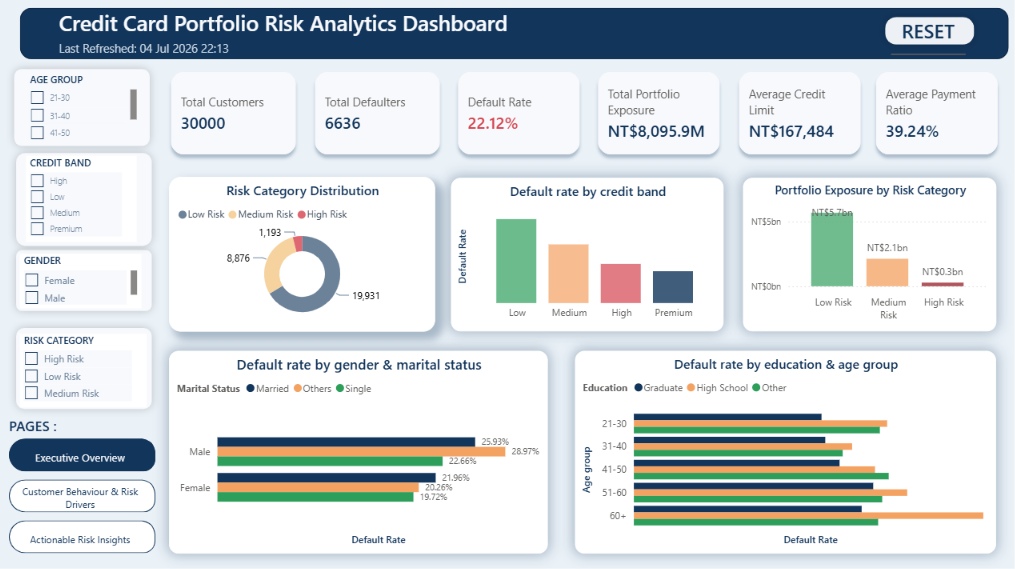

The page's visual inventory and layout, read from the dashboard file:
{"tool":"powerbi","page":{"name":"Executive Overview ","canvas":[1280,720],"ordinal":0},"visuals":[{"type":"shape","box":[28.6,14.3,1235.7,64.3],"z":0},{"type":"textbox","title":"Credit Card Portfolio Risk Analytics Dashboard","box":[72.9,14.3,624.3,64.3],"z":1000},{"type":"shape","box":[11.7,80,190,116.7],"z":2000},{"type":"shape","box":[13.3,306.7,190,96.7],"z":4000},{"type":"listSlicer","title":"AGE GROUP","fields":{"Values":["customers.age_group"]},"box":[36.7,95,143.3,90],"z":5000},{"type":"shape","box":[13.3,403.3,190,121.7],"z":7000},{"type":"listSlicer","title":"GENDER","fields":{"Values":["customers.Gender"]},"box":[28.3,321.7,151.7,68.3],"z":8000},{"type":"listSlicer","title":"RISK CATEGORY","fields":{"Values":["customers.risk_category"]},"box":[28.3,421.7,158.3,91.7],"z":9000},{"type":"shape","box":[13.3,185,190,136.7],"z":10000},{"type":"listSlicer","title":"CREDIT BAND","fields":{"Values":["customers.credit_band"]},"box":[36.7,198.3,138.3,108.3],"z":11000},{"type":"cardVisual","fields":{"Data":["Measures (2).Total Customers"]},"box":[195.7,64.3,214.3,195.7],"z":12000},{"type":"cardVisual","fields":{"Data":["Measures (2).Default Rate"]},"box":[374.3,62.9,228.6,195.7],"z":13000},{"type":"cardVisual","fields":{"Data":["Measures (2).Portfolio Exposure"]},"box":[568.6,65.7,264.3,195.7],"z":14000},{"type":"cardVisual","fields":{"Data":["Measures (2).Average Credit Limit"]},"box":[804.3,64.3,254.3,195.7],"z":15000},{"type":"cardVisual","fields":{"Data":["Measures (2).Average Payment Ratio"]},"box":[1032.9,64.3,247.1,195.7],"z":16000},{"type":"donutChart","title":"Risk Category Distribution","fields":{"Category":["customers.risk_category"],"Y":["Measures (2).Total Customers"]},"box":[218.6,254.3,332.9,215.7],"z":17000},{"type":"columnChart","title":"Default rate by credit band","fields":{"Category":["customers.credit_band"],"Y":["Measures (2).Default Rate"]},"box":[568.6,255.7,341.4,215.7],"z":18000},{"type":"clusteredColumnChart","title":"Portfolio Exposure by Risk Category","fields":{"Category":["customers.risk_category"],"Y":["Sum(customers.Exposure)"]},"box":[933.3,255,316.7,215],"z":19000},{"type":"barChart","title":"Default rate by age group","fields":{"Category":["customers.age_group"],"Y":["Measures (2).Default Rate"]},"box":[218.3,498.3,510,198.3],"z":20000},{"type":"clusteredBarChart","title":"Default rate by gender","fields":{"Category":["customers.Gender"],"Y":["Measures (2).Default Rate"]},"box":[758.3,498.3,491.7,198.3],"z":21000},{"type":"shape","box":[1100,15,131.7,55],"z":22000},{"type":"actionButton","title":"RESET","box":[1117,26,93.3,46.7],"z":23000},{"type":"pageNavigator","title":"PAGES :","box":[15,525,183.3,171.7],"z":24000}]}

Visuals, with their boxes in screenshot pixels (x1, y1, x2, y2), scaled from the page's 1280x720 canvas onto the 1015x569 screenshot:
shape: {"left": 23, "top": 11, "right": 1003, "bottom": 62}
"Credit Card Portfolio Risk Analytics Dashboard" textbox: {"left": 58, "top": 11, "right": 553, "bottom": 62}
shape: {"left": 9, "top": 63, "right": 160, "bottom": 155}
shape: {"left": 11, "top": 242, "right": 161, "bottom": 319}
"AGE GROUP" listSlicer: {"left": 29, "top": 75, "right": 143, "bottom": 146}
shape: {"left": 11, "top": 319, "right": 161, "bottom": 415}
"GENDER" listSlicer: {"left": 22, "top": 254, "right": 143, "bottom": 308}
"RISK CATEGORY" listSlicer: {"left": 22, "top": 333, "right": 148, "bottom": 406}
shape: {"left": 11, "top": 146, "right": 161, "bottom": 254}
"CREDIT BAND" listSlicer: {"left": 29, "top": 157, "right": 139, "bottom": 242}
cardVisual - Measures (2).Total Customers: {"left": 155, "top": 51, "right": 325, "bottom": 205}
cardVisual - Measures (2).Default Rate: {"left": 297, "top": 50, "right": 478, "bottom": 204}
cardVisual - Measures (2).Portfolio Exposure: {"left": 451, "top": 52, "right": 660, "bottom": 207}
cardVisual - Measures (2).Average Credit Limit: {"left": 638, "top": 51, "right": 839, "bottom": 205}
cardVisual - Measures (2).Average Payment Ratio: {"left": 819, "top": 51, "right": 1014, "bottom": 205}
"Risk Category Distribution" donutChart: {"left": 173, "top": 201, "right": 437, "bottom": 371}
"Default rate by credit band" columnChart: {"left": 451, "top": 202, "right": 722, "bottom": 373}
"Portfolio Exposure by Risk Category" clusteredColumnChart: {"left": 740, "top": 202, "right": 991, "bottom": 371}
"Default rate by age group" barChart: {"left": 173, "top": 394, "right": 578, "bottom": 551}
"Default rate by gender" clusteredBarChart: {"left": 601, "top": 394, "right": 991, "bottom": 551}
shape: {"left": 872, "top": 12, "right": 977, "bottom": 55}
"RESET" actionButton: {"left": 886, "top": 21, "right": 960, "bottom": 57}
"PAGES :" pageNavigator: {"left": 12, "top": 415, "right": 157, "bottom": 551}
